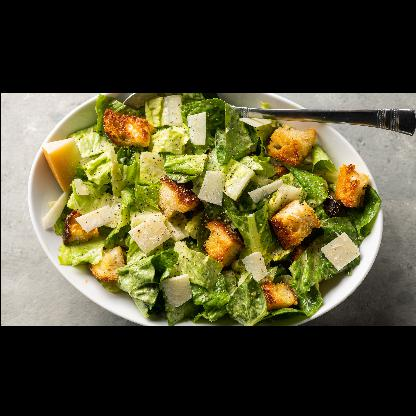salad: (40, 90, 380, 324)
